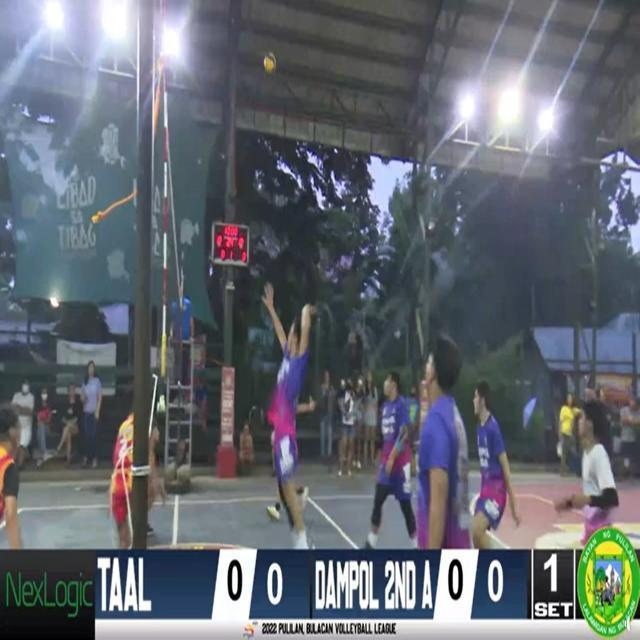volleyball: (263, 54, 276, 74)
